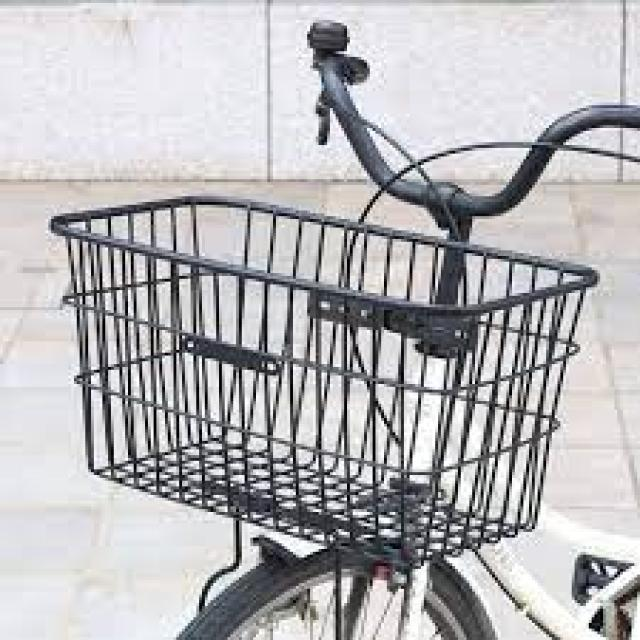basket: (47, 195, 595, 556)
